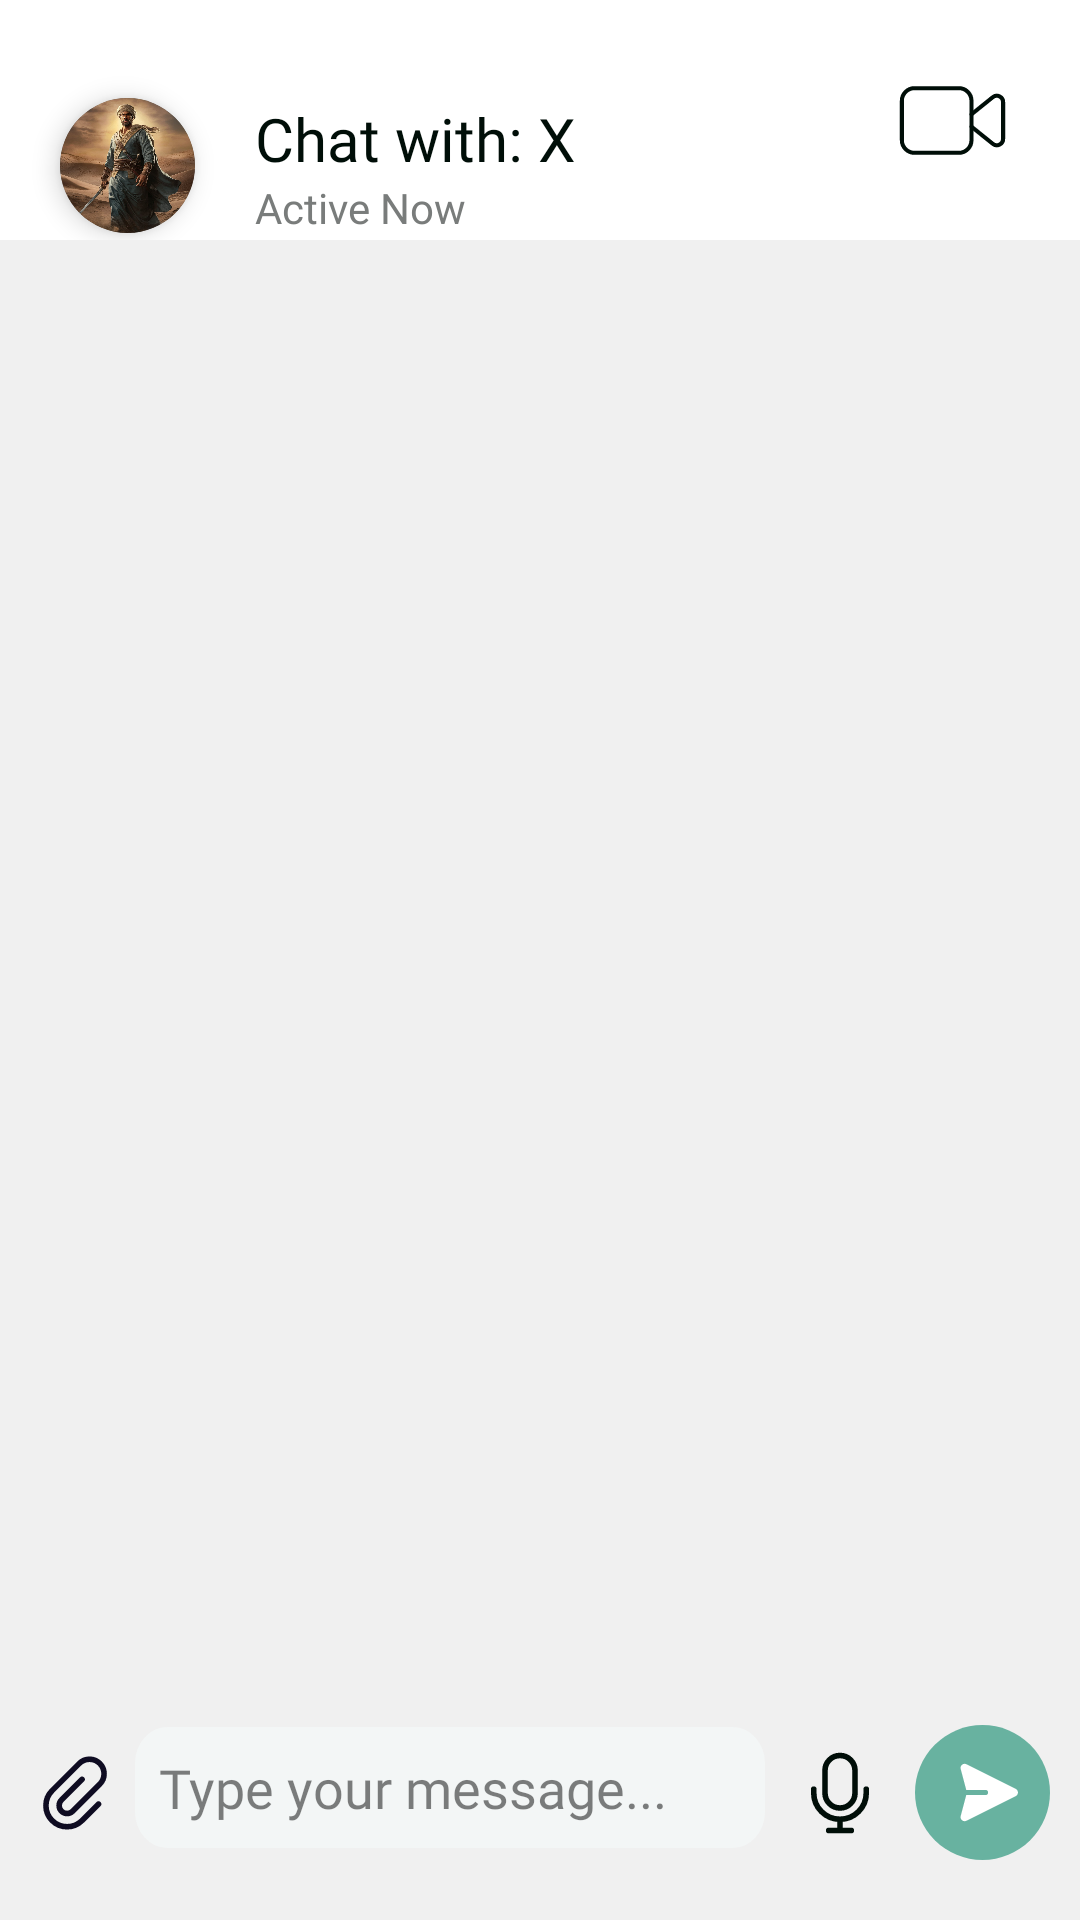

Icon click points for this 1080x1920 phone screenshot, format (x,y):
clip: (75,1793)
record: (840,1793)
video: (952,120)
